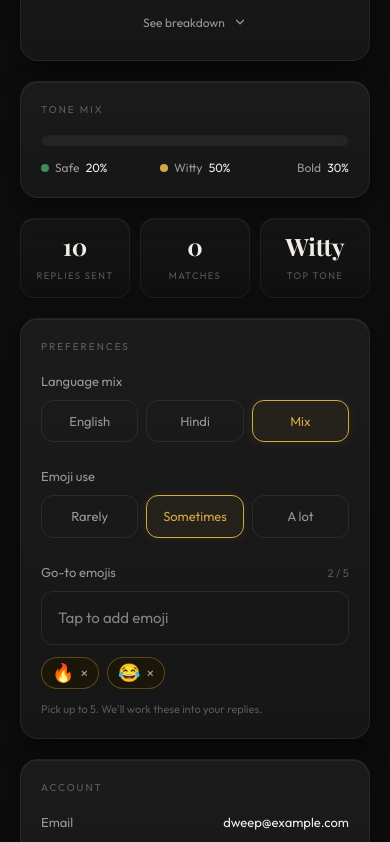
Test: ProfileScreen › preferences — draft / save / discard › Discard reverts the draft to the saved value
The image size is (390, 842).
(page scrolled)
Click the button "Hindi": [195, 421] box [146,400,244,442]
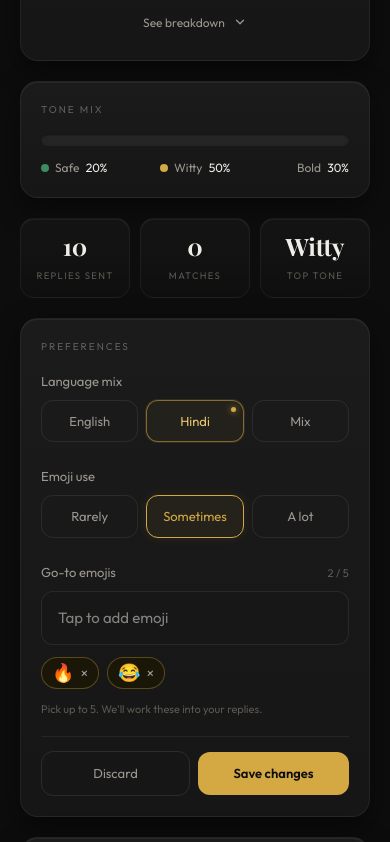
Click the button "Discard": [116, 774] box [41,751,190,796]
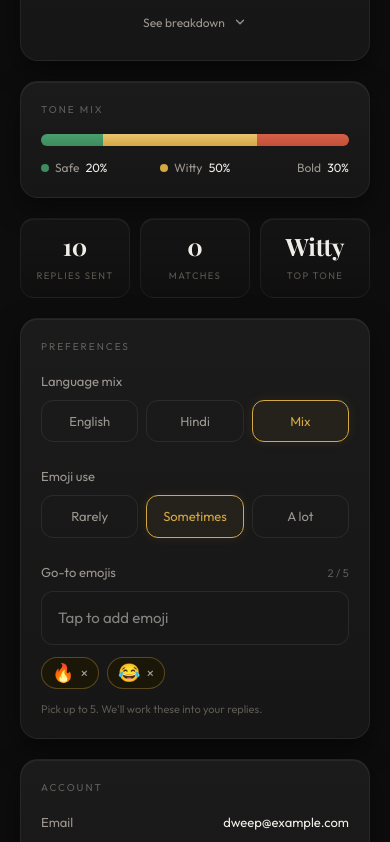
Expected: the button "Save changes" is gone
